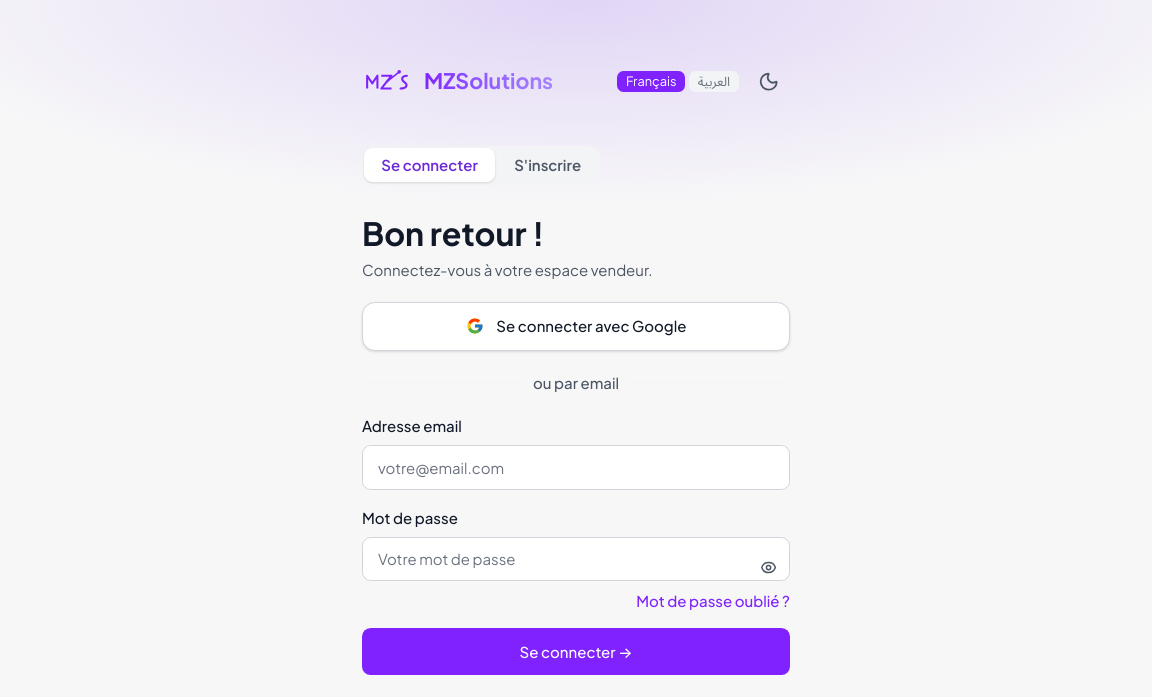
Test: Auth page › offers to resend verification code when login fails with email_not_verified
The width and height of the screenshot is (1152, 697).
In the field with placeholder "votre@email.com": (576, 467) x1=362 y1=445 x2=790 y2=490, type "a@test.com"
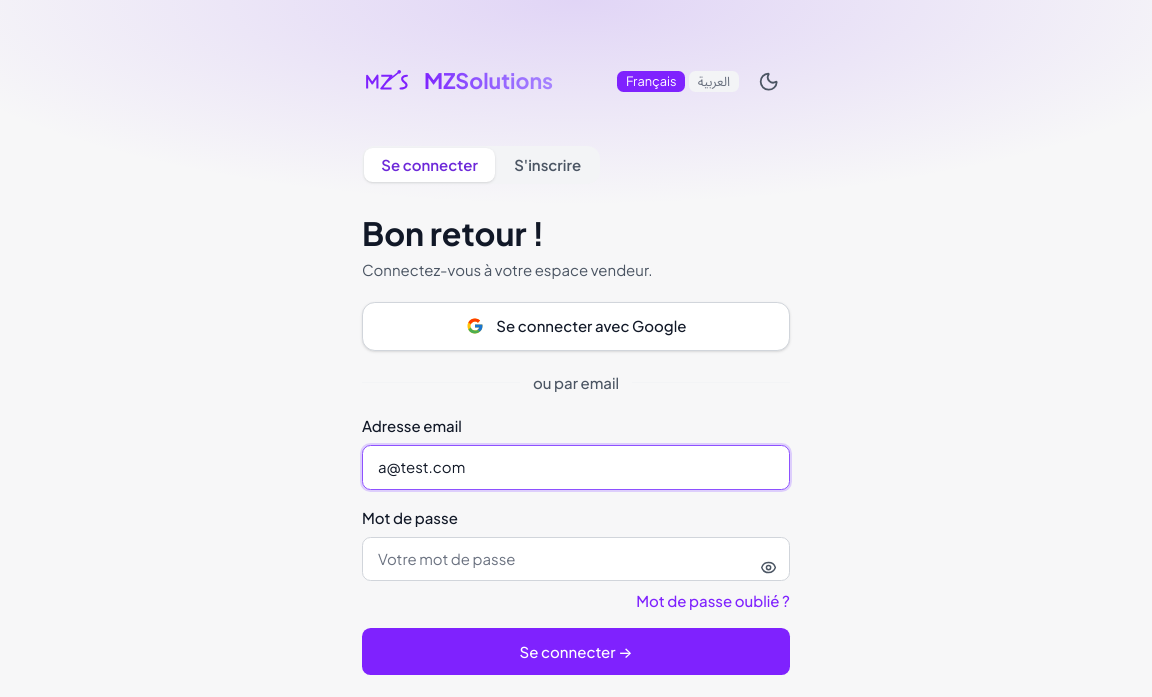
In the password field with placeholder "Votre mot de passe": (576, 559) x1=362 y1=537 x2=790 y2=581, type "password123"
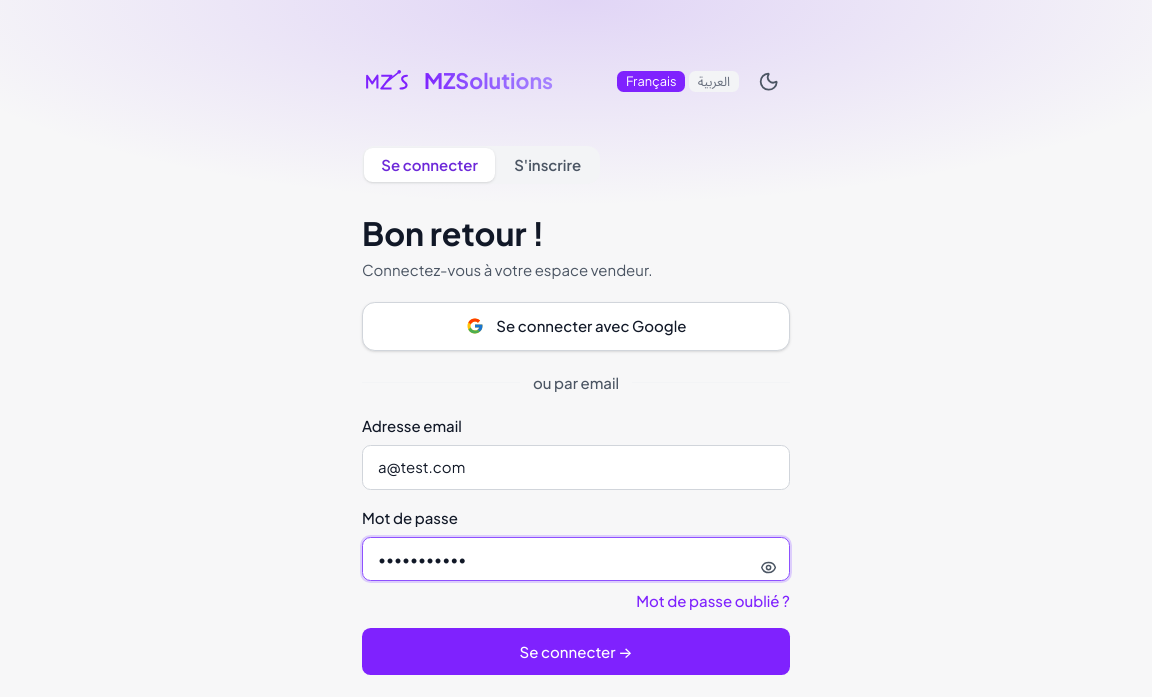
Click the button "Se connecter →": (576, 652) x1=362 y1=628 x2=790 y2=676
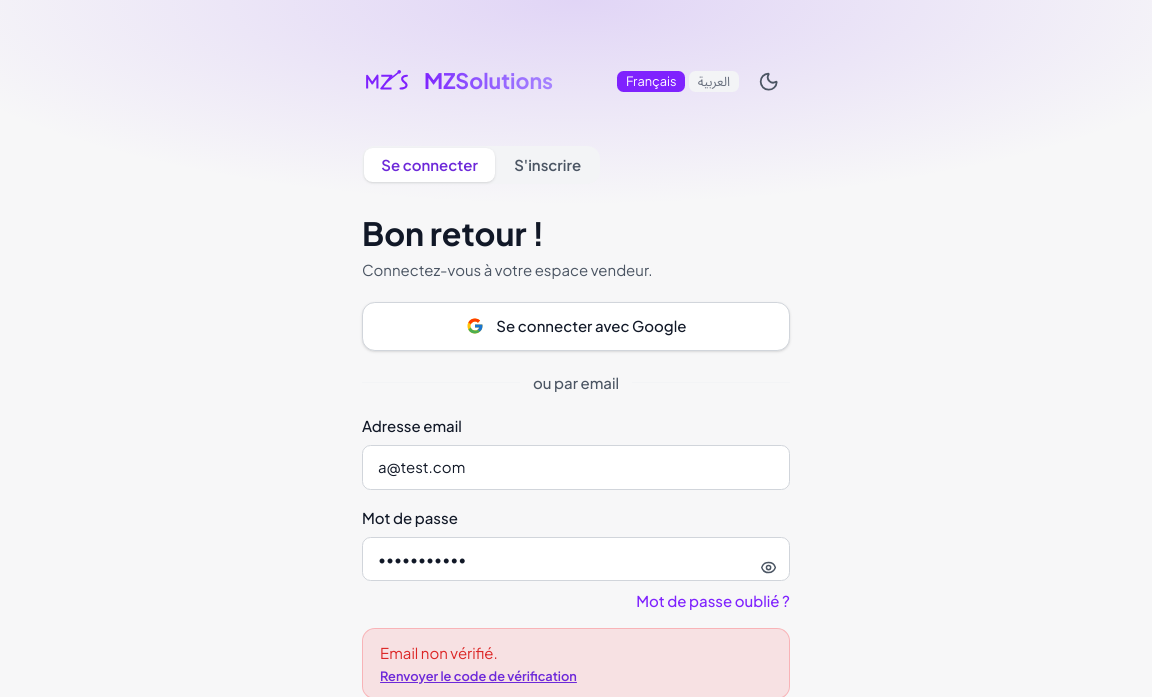
Expected: the button "Renvoyer le code de vérification" is shown, x1=380 y1=668 x2=577 y2=685
